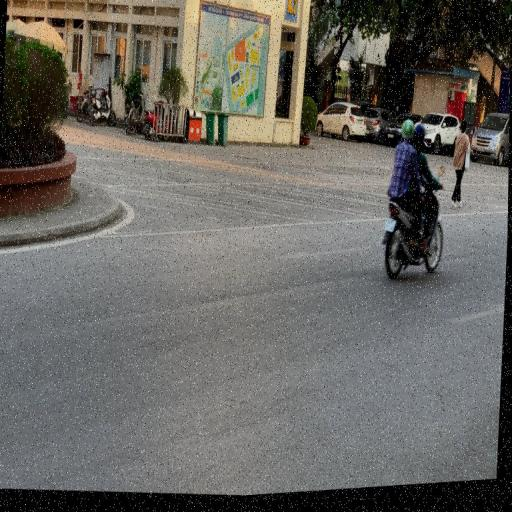bike: (379, 121, 450, 291)
numberplate: (384, 222, 398, 240)
with helmet: (400, 125, 417, 148), (414, 126, 428, 146)
